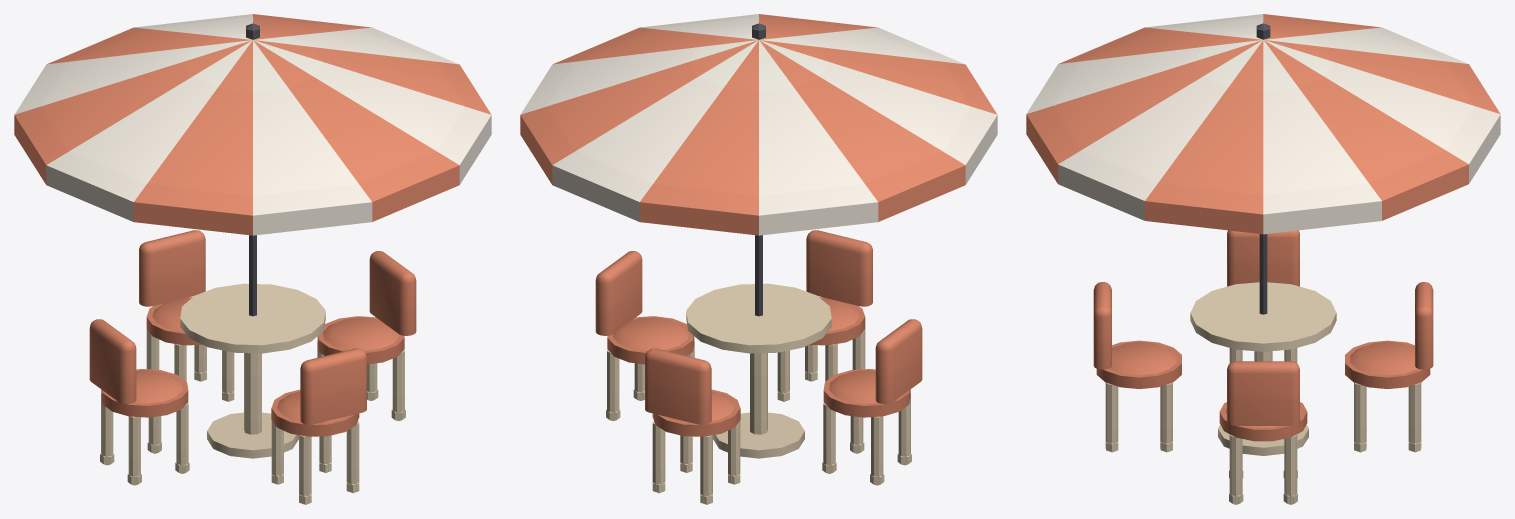
File: cafe_table_set.glb
3 views of the same model, side by side, from view 1: azimuth 30°, elevation 25°; view 2: azimuth 150°, elevation 25°; view 3: azimuth 270°, elevation 25° (orthographic).
Parts seen in each view (by area): view 1: cafe_table_set; view 2: cafe_table_set; view 3: cafe_table_set.
Part boxes in pixels (<box>): cafe_table_set: <box>14,14,491,504</box>; cafe_table_set: <box>520,14,997,504</box>; cafe_table_set: <box>1026,14,1500,504</box>.
Bounding box in the file's own units: 2.6 × 2.53 × 2.6.
Materials: 1 (1 with a texture image).
